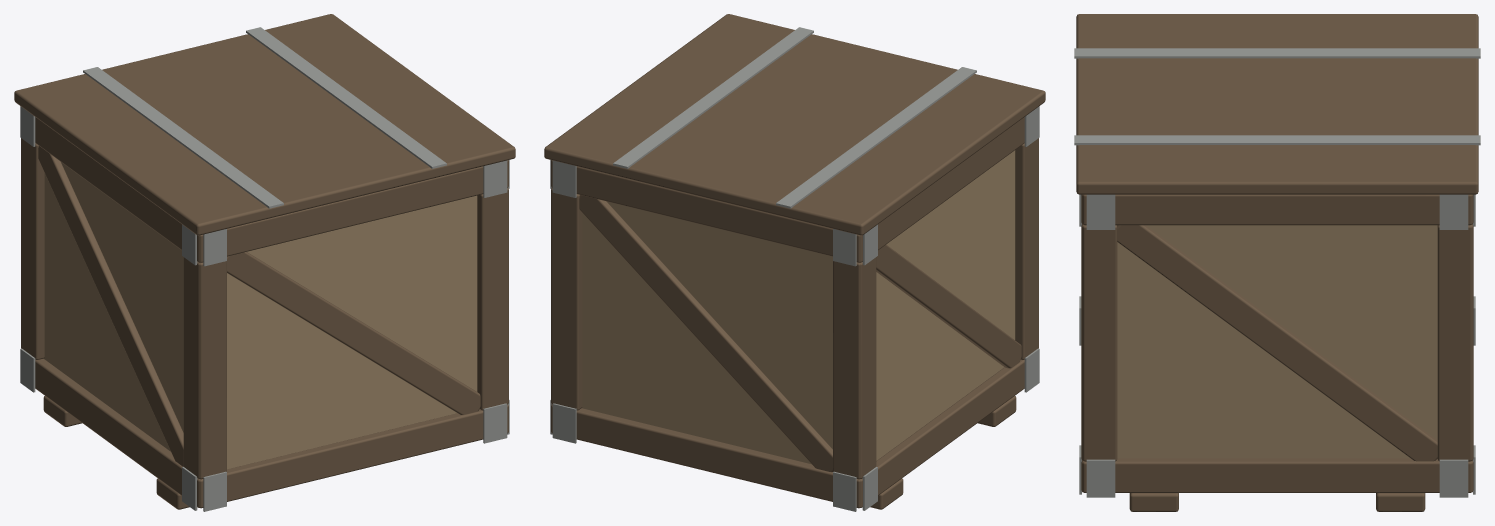
File: crate.glb
3 renders of one model, left to right at view 1: azimuth 30°, elevation 25°; view 2: azimuth 150°, elevation 25°; view 3: azimuth 270°, elevation 25°, orthographic. The views are drawn at different scales.
Parts seen in each view (by area): view 1: planks-dark, planks, steel; view 2: planks-dark, planks, steel; view 3: planks-dark, planks, steel.
Part boxes in pixels (x1=…): planks-dark: x1=14, y1=14, x2=515, y2=509; planks: x1=44, y1=162, x2=477, y2=469; steel: x1=20, y1=27, x2=509, y2=511; planks-dark: x1=544, y1=14, x2=1045, y2=509; planks: x1=582, y1=150, x2=1015, y2=463; steel: x1=550, y1=27, x2=1039, y2=511; planks-dark: x1=1076, y1=14, x2=1478, y2=511; planks: x1=1117, y1=225, x2=1437, y2=458; steel: x1=1074, y1=48, x2=1480, y2=497.
Bounding box in the file's own units: 1.96 × 1.8 × 1.98.
